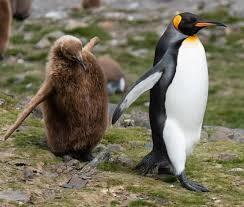king: (113, 0, 231, 198)
